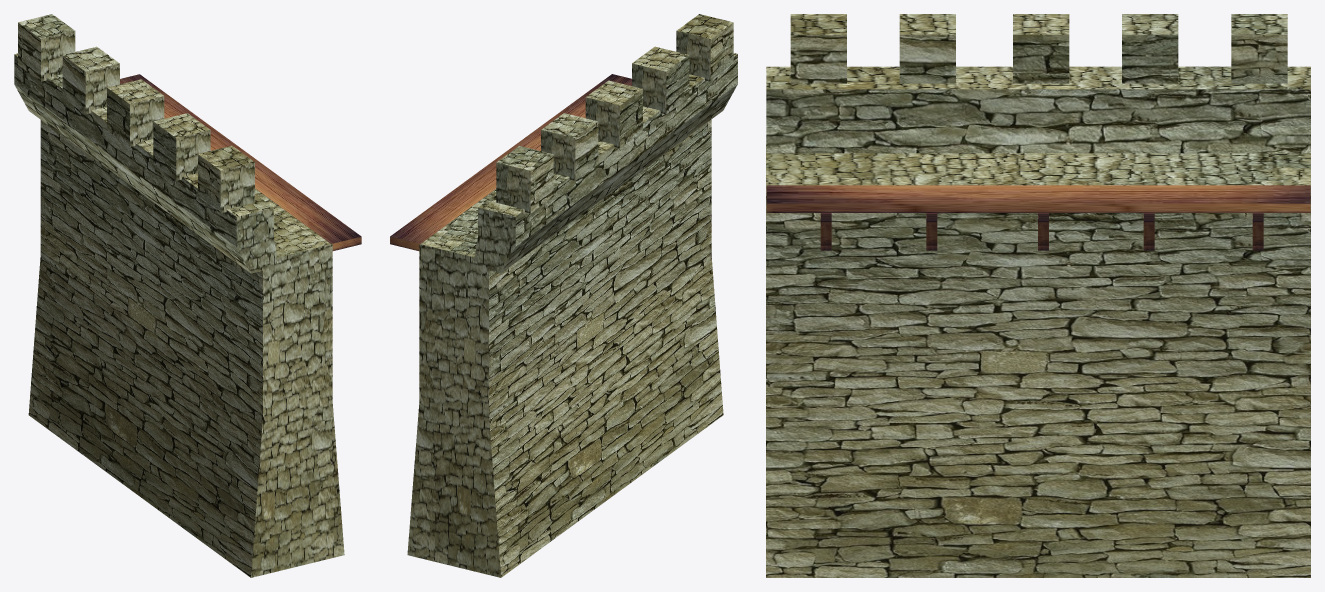
The model's file is Wall1.obj.
3 renders of one model, left to right at view 1: azimuth 30°, elevation 25°; view 2: azimuth 150°, elevation 25°; view 3: azimuth 270°, elevation 25°, orthographic. The views are drawn at different scales.
Parts seen in each view (by area): view 1: limestone, floor; view 2: limestone, floor; view 3: limestone, floor.
Boxes of the visible parts, <box> form: limestone: <box>14,14,344,577</box>; floor: <box>120,74,361,250</box>; limestone: <box>407,14,737,577</box>; floor: <box>390,74,631,250</box>; limestone: <box>766,14,1310,577</box>; floor: <box>766,185,1310,250</box>.
Size of the model in its own units: 26.46 by 76.58 by 76.25.
Materials: 2 (2 with a texture image).
